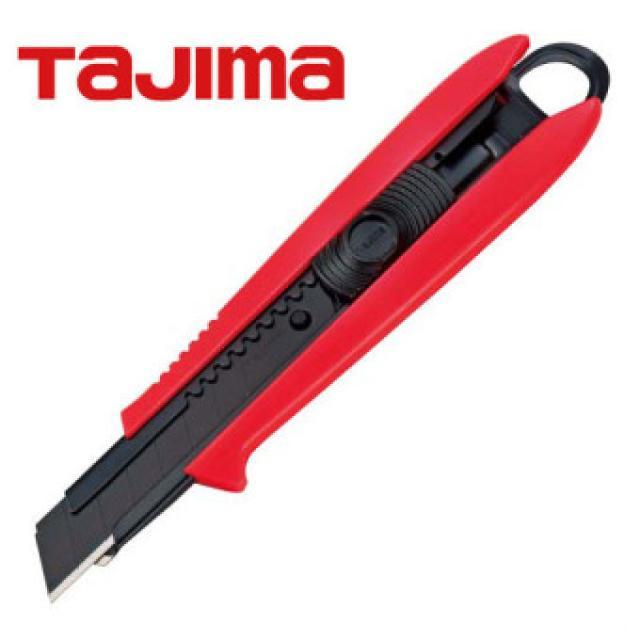cutter: (18, 27, 620, 612)
